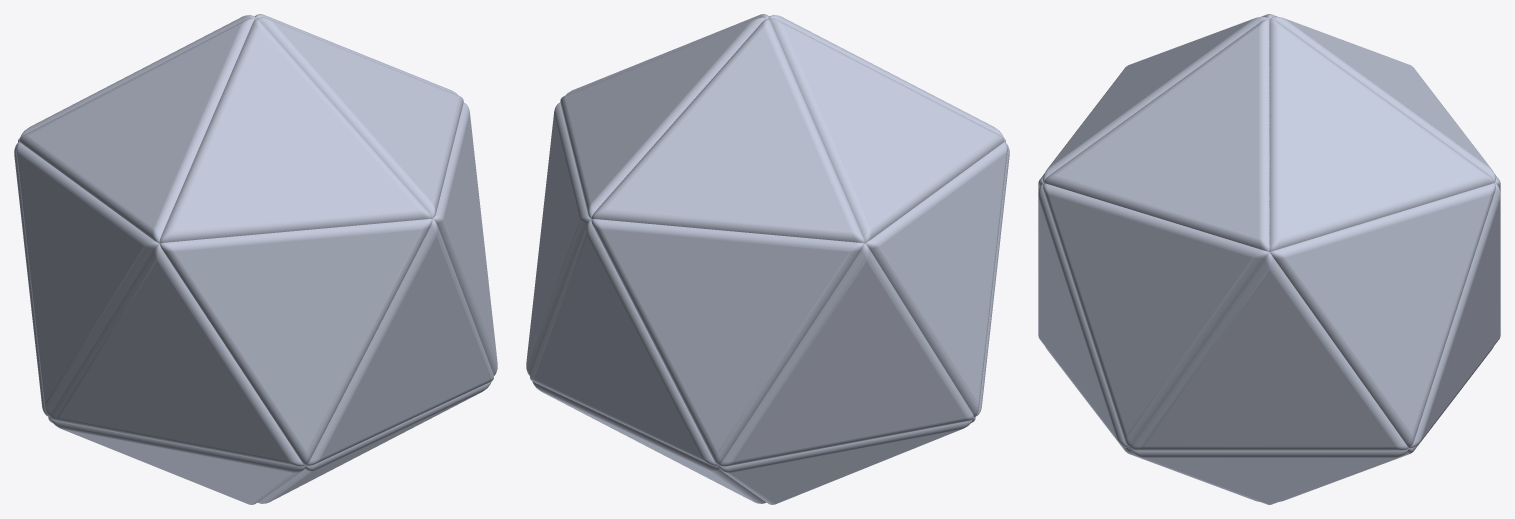
Rendered from icosahedron.glb.
The picture shows the model from 3 angles, left to right: view 1: azimuth 30°, elevation 25°; view 2: azimuth 150°, elevation 25°; view 3: azimuth 270°, elevation 25°; orthographic projection.
Visible parts, largest first — view 1: facet_11, facet_16, facet_07, facet_17, facet_12, facet_06, facet_15, facet_10, facet_02, facet_00, facet_18, facet_08 (+1 smaller); view 2: facet_13, facet_18, facet_08, facet_17, facet_12, facet_09, facet_19, facet_14, facet_03, facet_04, facet_16, facet_07 (+1 smaller); view 3: facet_05, facet_10, facet_14, facet_15, facet_19, facet_01, facet_06, facet_09, facet_16, facet_18.
Boxes of the visible parts, x1=… form: facet_11: x1=159, y1=219, x2=432, y2=464; facet_16: x1=159, y1=19, x2=432, y2=243; facet_07: x1=50, y1=244, x2=304, y2=466; facet_17: x1=19, y1=18, x2=254, y2=243; facet_12: x1=16, y1=141, x2=159, y2=416; facet_06: x1=306, y1=219, x2=493, y2=465; facet_15: x1=257, y1=17, x2=463, y2=218; facet_10: x1=432, y1=102, x2=497, y2=375; facet_02: x1=50, y1=418, x2=305, y2=504; facet_00: x1=258, y1=381, x2=491, y2=503; facet_18: x1=20, y1=15, x2=255, y2=138; facet_08: x1=14, y1=142, x2=49, y2=417; facet_13: x1=591, y1=219, x2=864, y2=464; facet_18: x1=591, y1=19, x2=864, y2=243; facet_08: x1=719, y1=244, x2=973, y2=466; facet_17: x1=769, y1=18, x2=1004, y2=243; facet_12: x1=864, y1=141, x2=1007, y2=416; facet_09: x1=530, y1=219, x2=717, y2=465; facet_19: x1=560, y1=17, x2=766, y2=218; facet_14: x1=526, y1=102, x2=591, y2=375; facet_03: x1=718, y1=418, x2=973, y2=504; facet_04: x1=532, y1=381, x2=765, y2=503; facet_16: x1=768, y1=15, x2=1003, y2=138; facet_07: x1=974, y1=142, x2=1009, y2=417; facet_05: x1=1130, y1=252, x2=1408, y2=450; facet_10: x1=1043, y1=183, x2=1269, y2=447; facet_14: x1=1269, y1=183, x2=1495, y2=447; facet_15: x1=1044, y1=19, x2=1269, y2=251; facet_19: x1=1269, y1=19, x2=1494, y2=251; facet_01: x1=1130, y1=448, x2=1408, y2=504; facet_06: x1=1038, y1=183, x2=1129, y2=448; facet_09: x1=1409, y1=183, x2=1500, y2=448; facet_16: x1=1043, y1=16, x2=1268, y2=182; facet_18: x1=1270, y1=16, x2=1495, y2=182.
Bounding box in the file's own units: 3.03 × 3.32 × 2.88.
